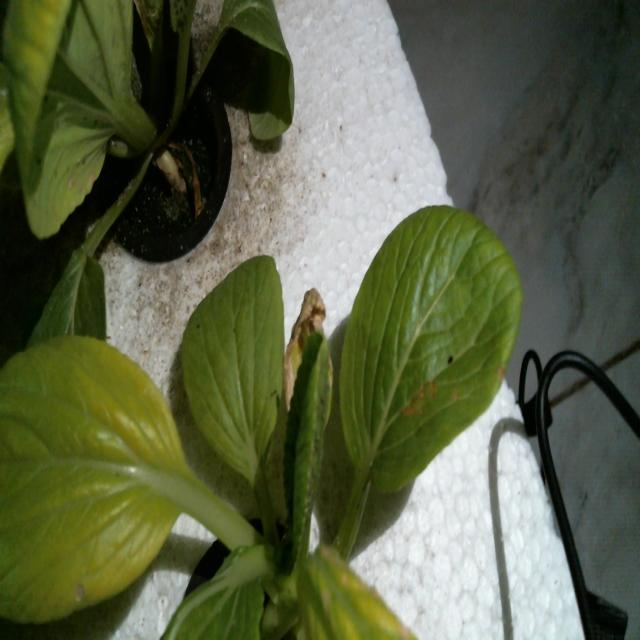pakcoy_tidak_sehat: (0, 253, 345, 636)
